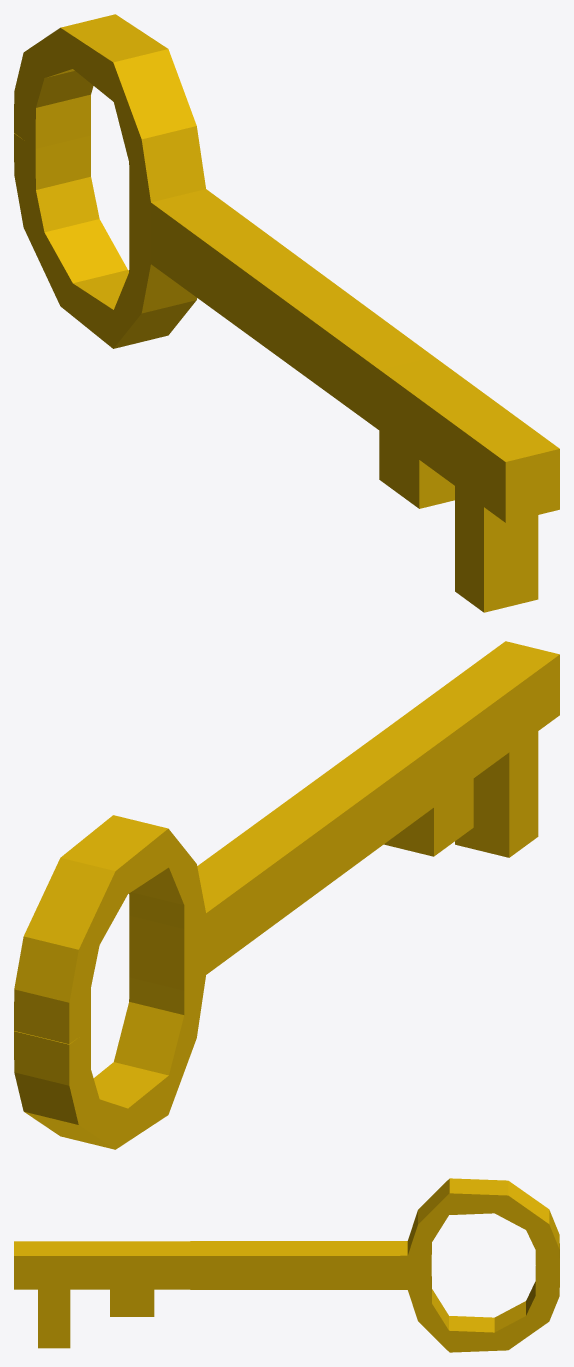
The model's file is Unit567KeyColourV1.fbx.
3 renders of one model, top to bottom at view 1: azimuth 30°, elevation 25°; view 2: azimuth 150°, elevation 25°; view 3: azimuth 270°, elevation 25°, orthographic. The views are drawn at different scales.
Parts seen in each view (by area): view 1: Cube; view 2: Cube; view 3: Cube.
Part boxes in pixels (bbox=[...]): Cube: bbox=[14, 14, 559, 612]; Cube: bbox=[14, 641, 559, 1149]; Cube: bbox=[14, 1178, 559, 1352].
Bounding box in the file's own units: 27.93 × 139 × 431.
